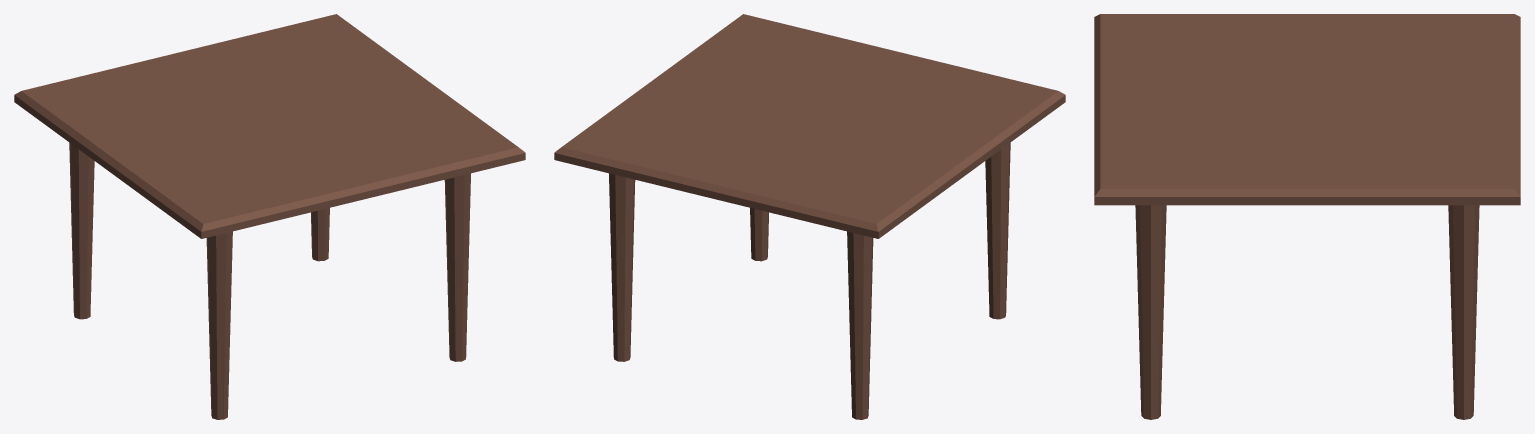
Rendered from Table.glb.
The picture shows the model from 3 angles, left to right: view 1: azimuth 30°, elevation 25°; view 2: azimuth 150°, elevation 25°; view 3: azimuth 270°, elevation 25°; orthographic projection. The views are drawn at different scales.
Visible parts, largest first — view 1: Table_Small_Rectangular_01_Circle.008; view 2: Table_Small_Rectangular_01_Circle.008; view 3: Table_Small_Rectangular_01_Circle.008.
Part boxes in pixels (x1=…): Table_Small_Rectangular_01_Circle.008: x1=14, y1=14, x2=525, y2=419; Table_Small_Rectangular_01_Circle.008: x1=554, y1=14, x2=1065, y2=419; Table_Small_Rectangular_01_Circle.008: x1=1094, y1=14, x2=1520, y2=419.
Bounding box in the file's own units: 11.74 × 7.54 × 11.74.
